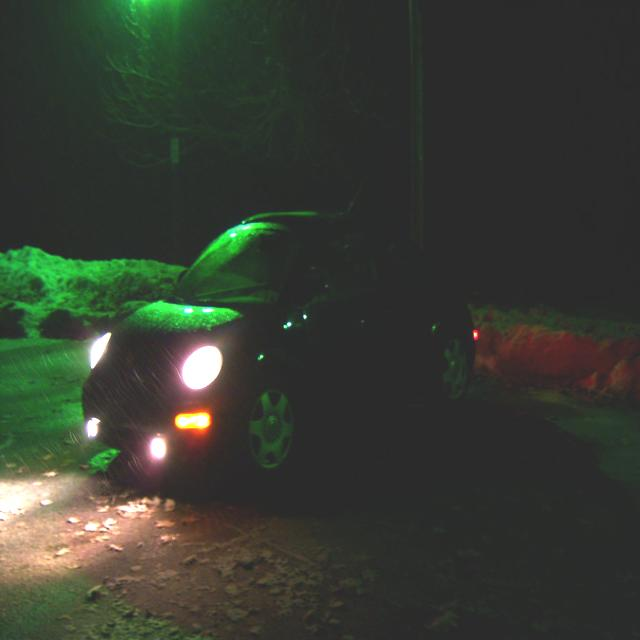Car: (82, 206, 478, 497)
